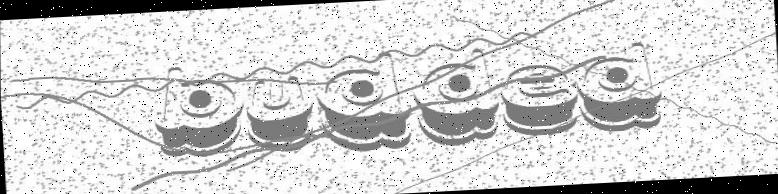b: (149, 63, 244, 161)
d: (312, 50, 413, 157), (409, 47, 502, 151), (574, 41, 666, 140)
e: (498, 62, 580, 141)
u: (242, 71, 316, 155)
